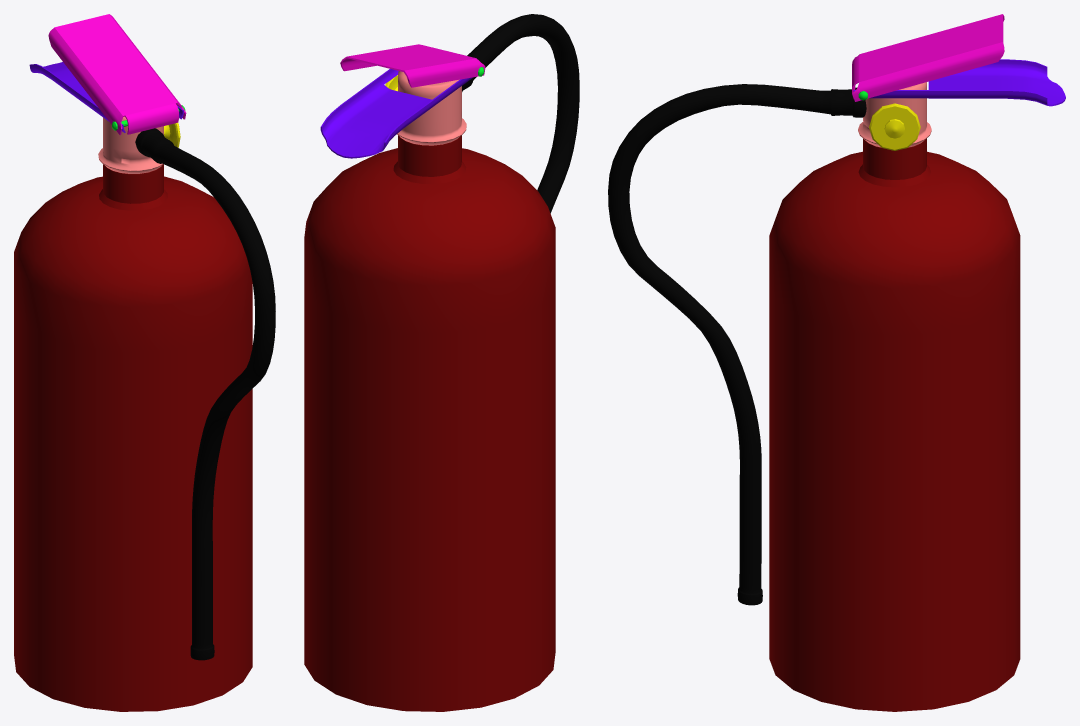
Rendered from Fire_Extinguisher.FBX.
3 views of the same model, side by side, from view 1: azimuth 30°, elevation 25°; view 2: azimuth 150°, elevation 25°; view 3: azimuth 270°, elevation 25° (orthographic). The views are drawn at different scales.
Parts seen in each view (by area): view 1: pCylinder1, pCylinder5, pPlane1, pCylinder2, pPlane2; view 2: pCylinder1, pCylinder5, pPlane2, pPlane1, pCylinder2; view 3: pCylinder1, pCylinder5, pPlane1, pPlane2, pCylinder3, pCylinder2.
Part boxes in pixels (bbox=[...]): pCylinder1: bbox=[14, 164, 252, 711]; pCylinder5: bbox=[135, 128, 275, 660]; pPlane1: bbox=[48, 14, 186, 134]; pCylinder2: bbox=[98, 116, 163, 173]; pPlane2: bbox=[29, 62, 183, 132]; pCylinder1: bbox=[304, 135, 555, 711]; pCylinder5: bbox=[462, 14, 579, 213]; pPlane2: bbox=[320, 69, 472, 158]; pPlane1: bbox=[340, 44, 485, 87]; pCylinder2: bbox=[397, 71, 466, 145]; pCylinder1: bbox=[769, 138, 1020, 711]; pCylinder5: bbox=[608, 84, 866, 605]; pPlane1: bbox=[852, 14, 1004, 101]; pPlane2: bbox=[853, 59, 1065, 106]; pCylinder3: bbox=[869, 103, 920, 150]; pCylinder2: bbox=[858, 82, 931, 147].
Bounding box in the file's own units: 28.39 × 78.74 × 51.79.
